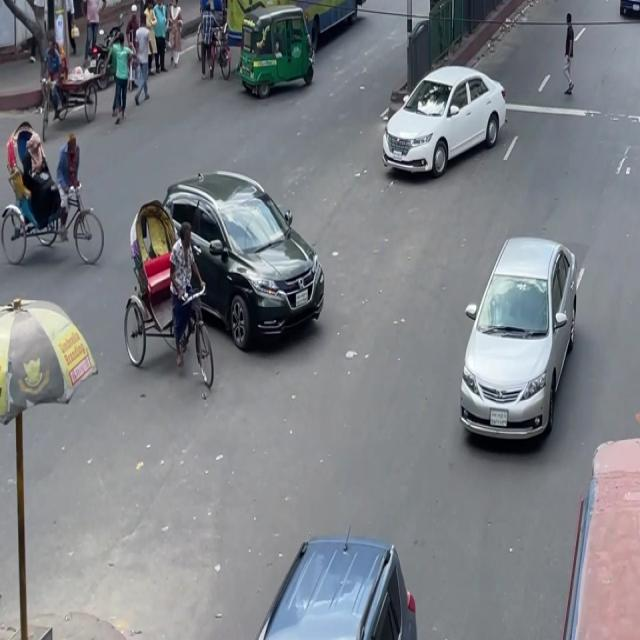car: (149, 152, 334, 358), (450, 215, 589, 460), (376, 53, 511, 191), (614, 0, 640, 26)
rickshaw: (234, 0, 320, 107)
